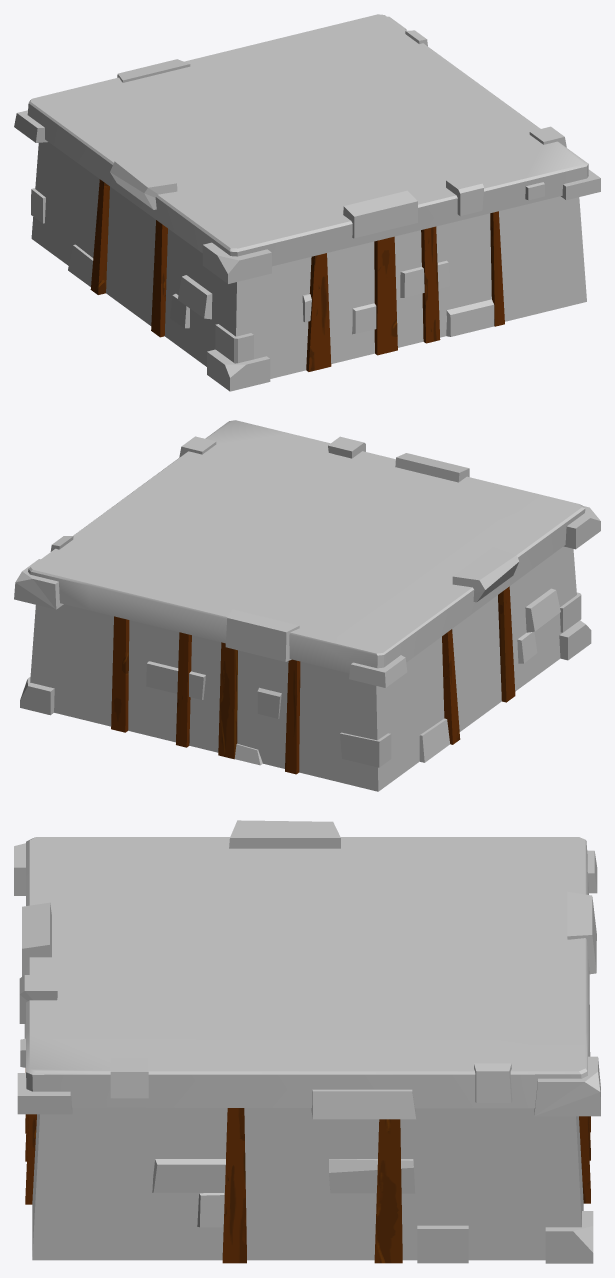
The model's file is SM_BLD_base_v05_01.fbx.
The picture shows the model from 3 angles, top to bottom: view 1: azimuth 30°, elevation 25°; view 2: azimuth 150°, elevation 25°; view 3: azimuth 270°, elevation 25°; orthographic projection. The views are drawn at different scales.
Parts seen in each view (by area): view 1: SM_BLD_base_v05_01; view 2: SM_BLD_base_v05_01; view 3: SM_BLD_base_v05_01.
Part boxes in pixels (x1,y1,x2,y2): SM_BLD_base_v05_01: (14, 14, 600, 391); SM_BLD_base_v05_01: (14, 420, 600, 791); SM_BLD_base_v05_01: (14, 820, 600, 1263).
Size of the model in its own units: 622 by 235 by 620.
